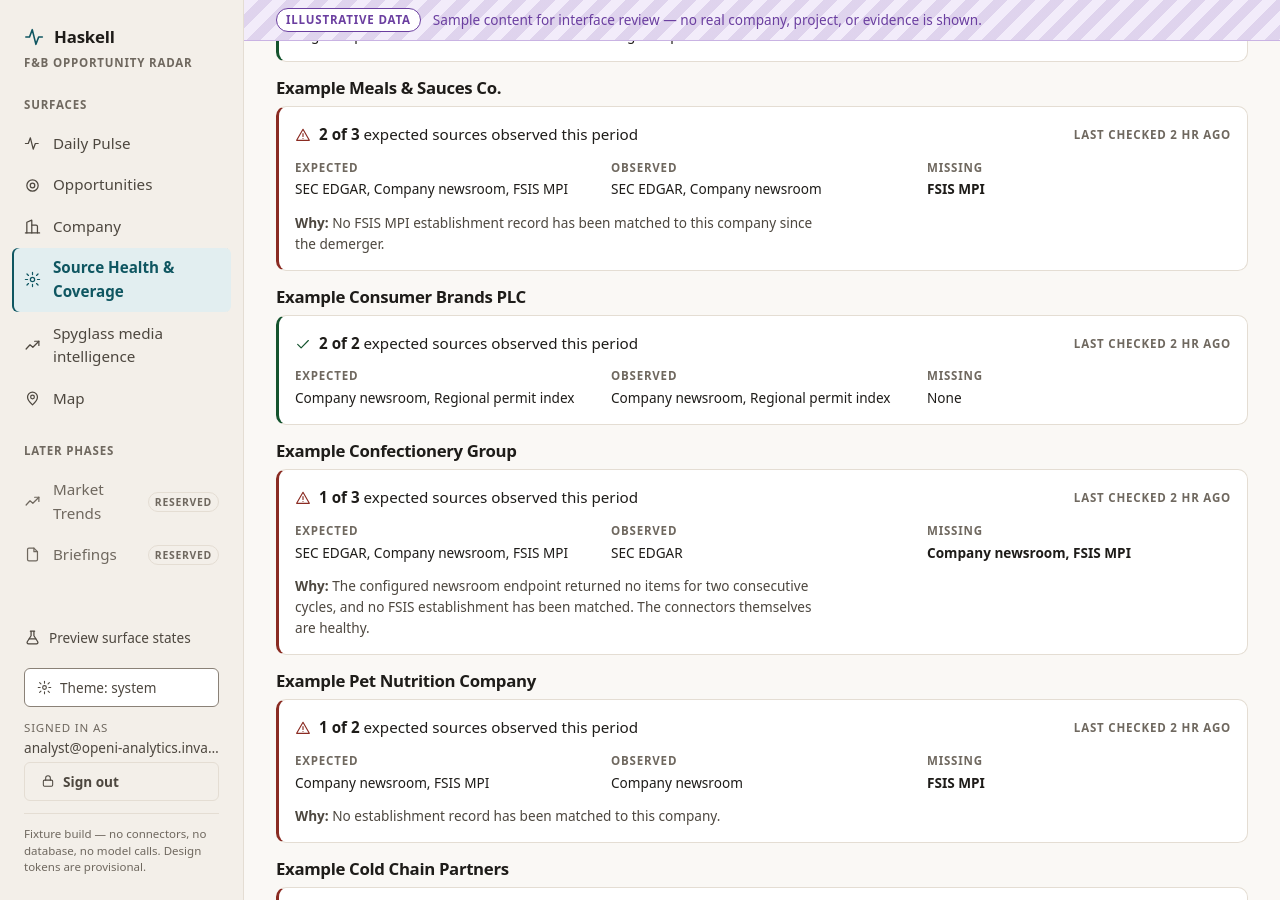
Scenario: walking the record graph › reaches a company from a coverage row on Source Health
The width and height of the screenshot is (1280, 900).
(page scrolled)
Click the link "Example Confectionery Group".
click(396, 451)  # box [276,439,516,462]
(page scrolled)
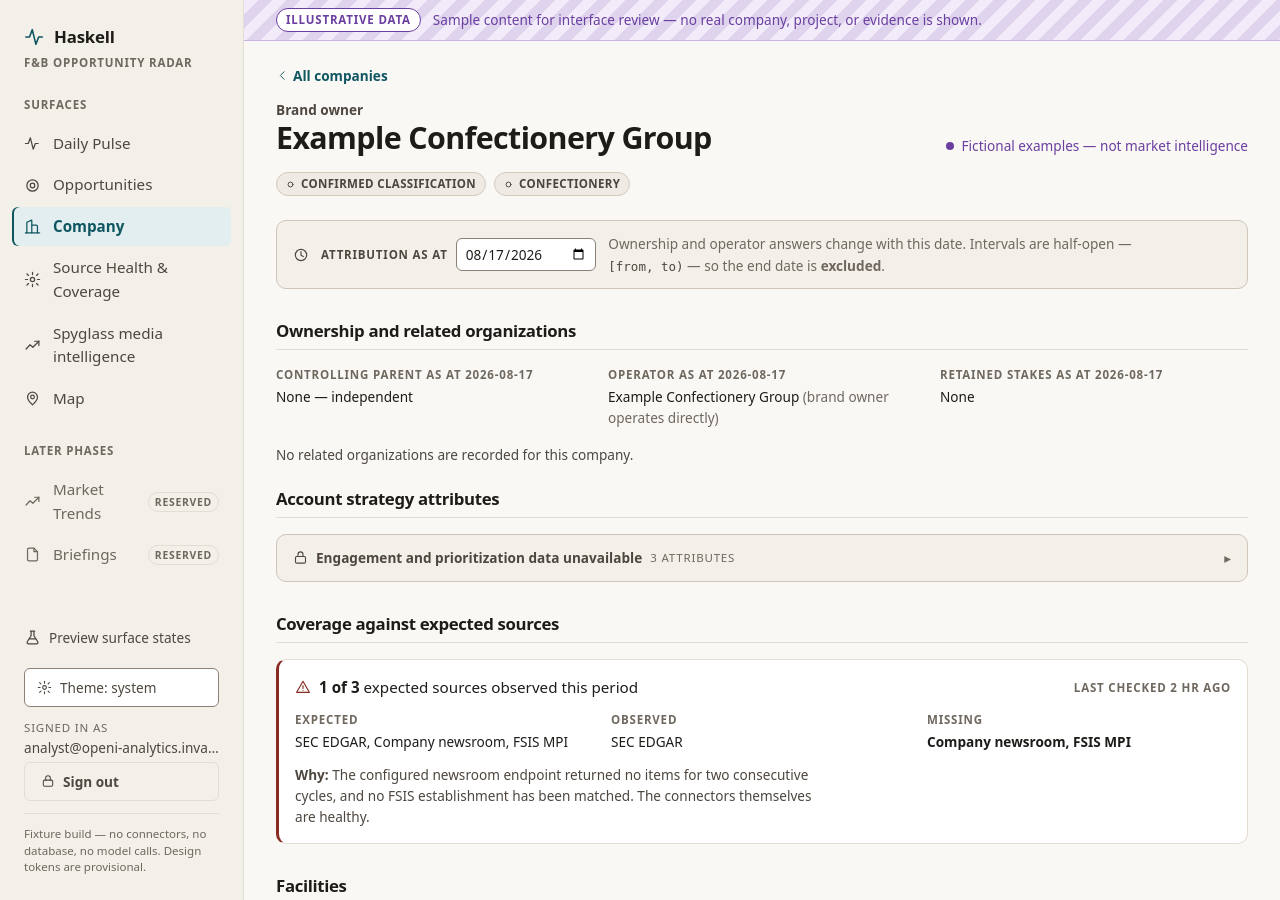
Expected: the heading "Example Confectionery Group" is shown, [276,120,712,156]
